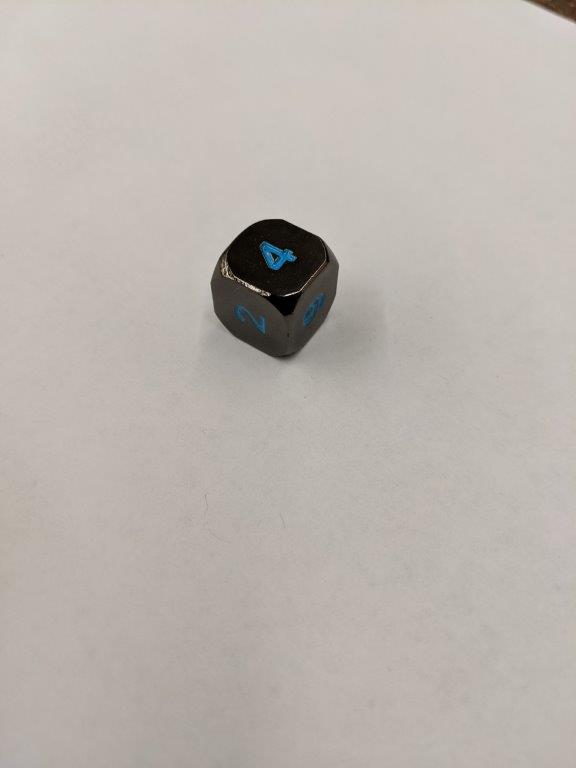d6-4: (214, 218, 338, 358)
